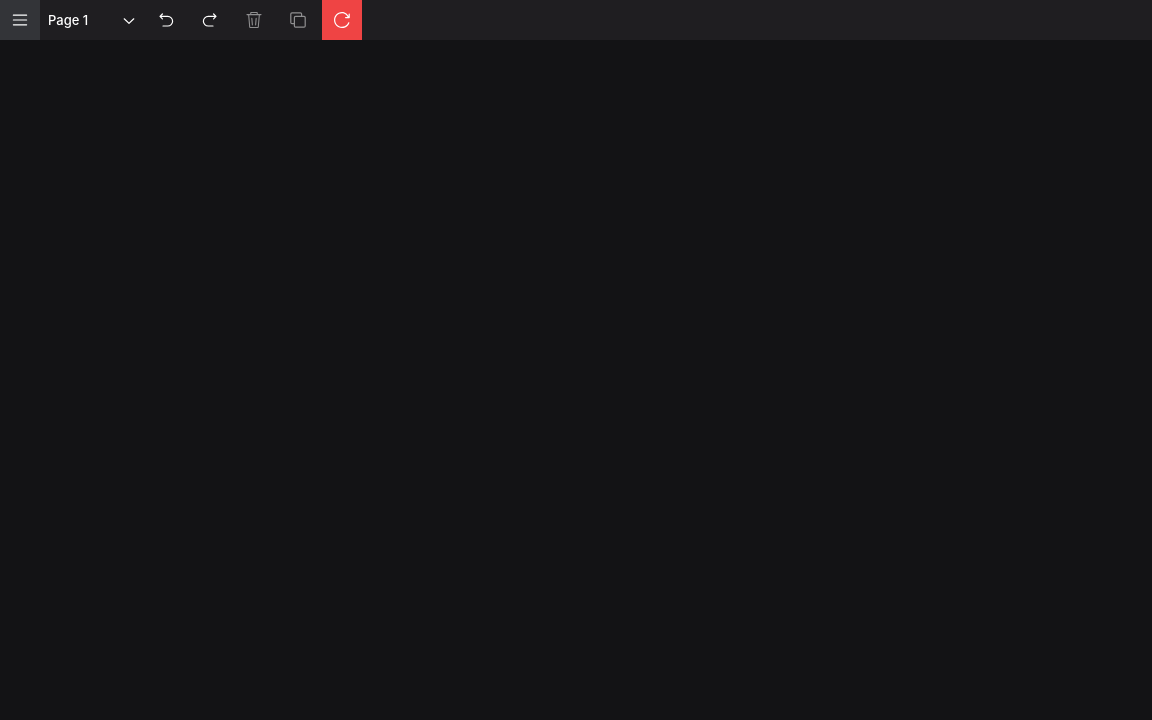
Test: Pages › opens the page dialog when page button is clicked
The width and height of the screenshot is (1152, 720).
// Click the page button
Click the element with test id "page-button" at (65, 20), box [48,11,138,29]
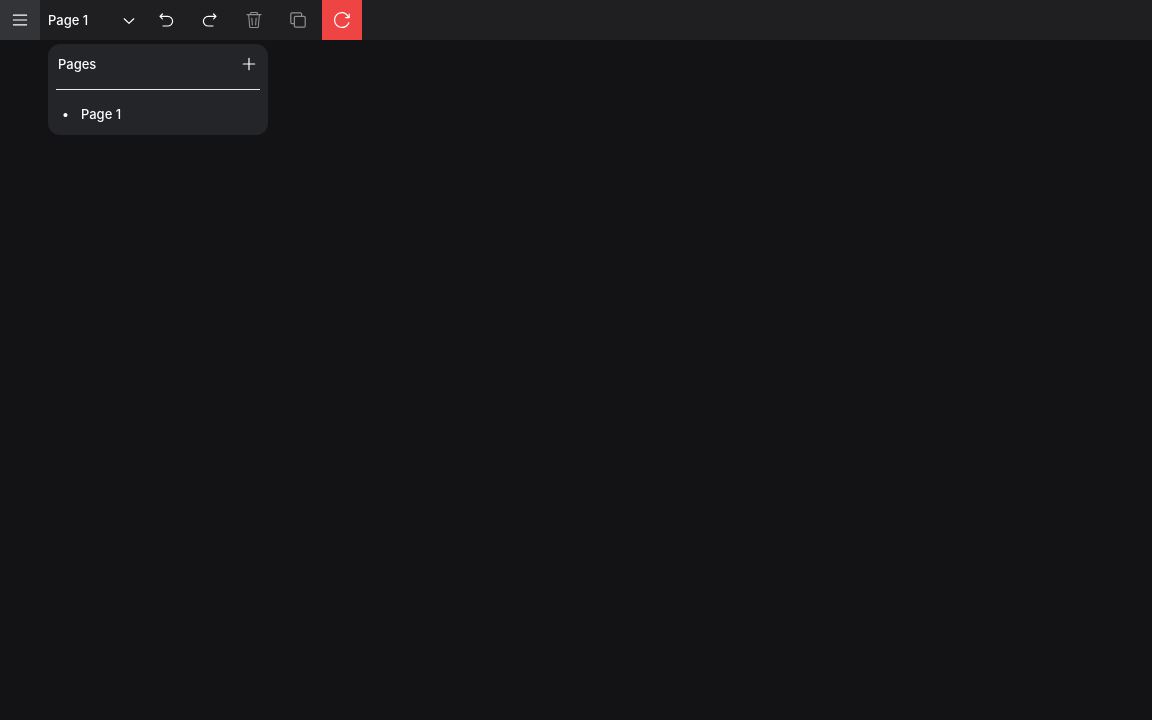
Check: the element with test id "page-dialog" is shown, box [62,106,121,122]
